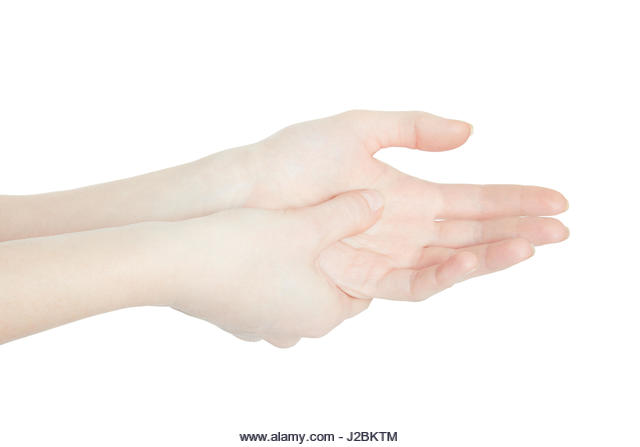non-diseased: (225, 90, 575, 346)
